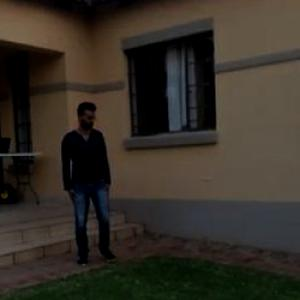follow: (63, 92, 116, 278)
